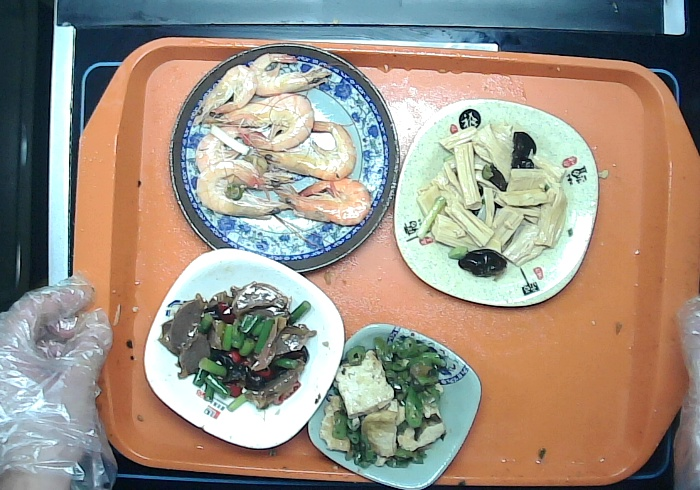NLDX-Bai_Se_Xiao_Fang_Die: (137, 245, 348, 452)
NLDX-Fu_Zi_Fang_Die: (387, 95, 604, 313)
NLDX-Qing_Hua_Xiao_Fang_Die: (305, 319, 486, 487)
NLDX-Qing_Hua_Yuan_Die: (162, 38, 402, 272)
